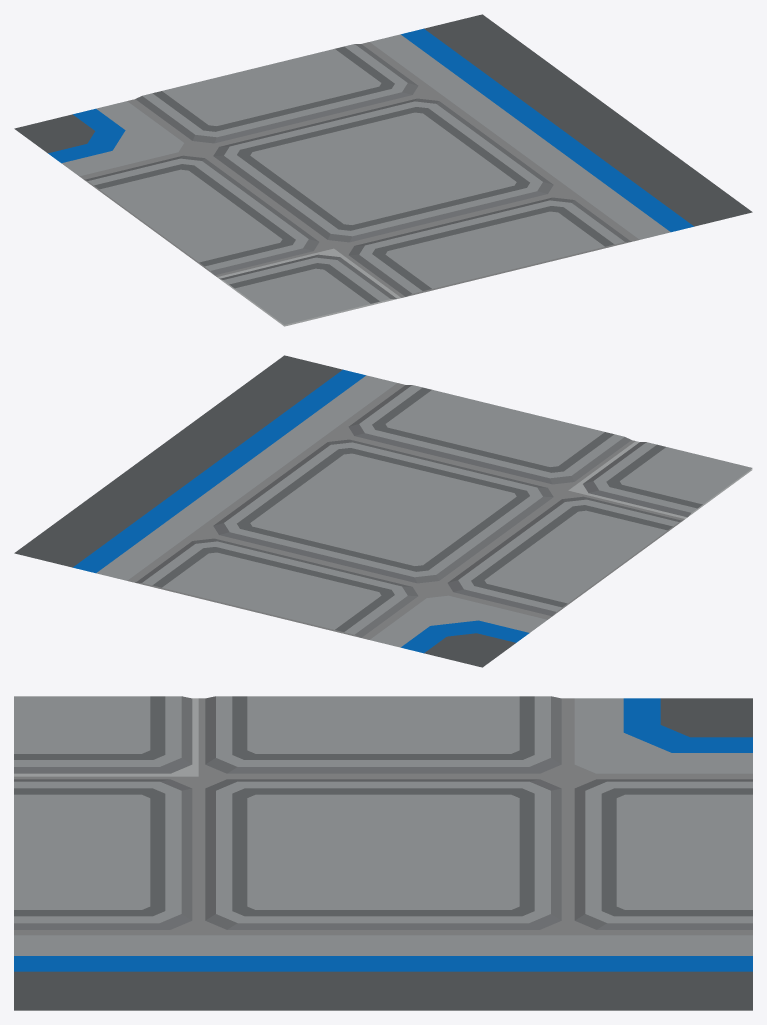
Rendered from Floor_type_B_036.fbx.
3 views of the same model, one above another, from view 1: azimuth 30°, elevation 25°; view 2: azimuth 150°, elevation 25°; view 3: azimuth 270°, elevation 25° (orthographic). The views are drawn at different scales.
Visible parts, largest first — view 1: Floor_type_B_036; view 2: Floor_type_B_036; view 3: Floor_type_B_036.
Boxes of the visible parts, x1,y1,x2,y2 form: Floor_type_B_036: (14, 14, 752, 326); Floor_type_B_036: (14, 355, 752, 667); Floor_type_B_036: (14, 696, 752, 1010).
Size of the model in its own units: 400 by 400 by 1.34.
